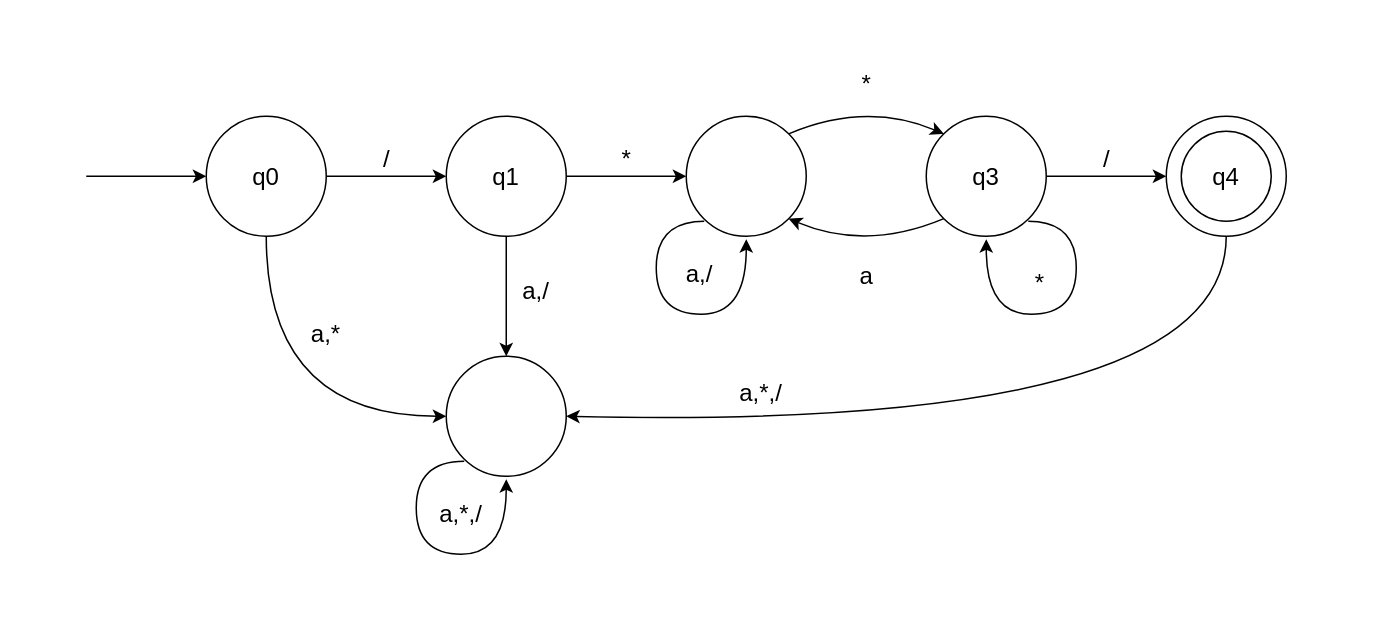
Image size: 1373x638. Some labels were removed from this diagram. Here are the shapes that lost their labels. From the top down, the centre of each, then its label:
(x=745, y=175): q2
(x=505, y=415): q5
